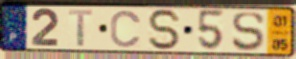2: (30, 7, 62, 49)
5: (196, 8, 226, 53)
C: (109, 9, 144, 49)
S: (146, 8, 184, 52), (231, 11, 267, 53)
T: (67, 8, 95, 48)
